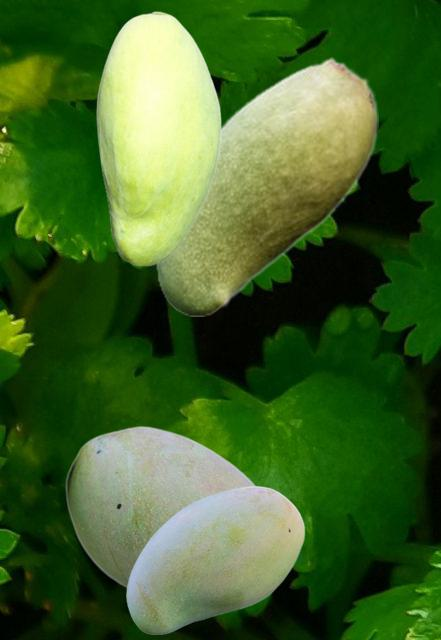green_mango: (155, 57, 377, 315), (96, 11, 220, 265), (65, 425, 256, 587), (126, 486, 304, 633)
